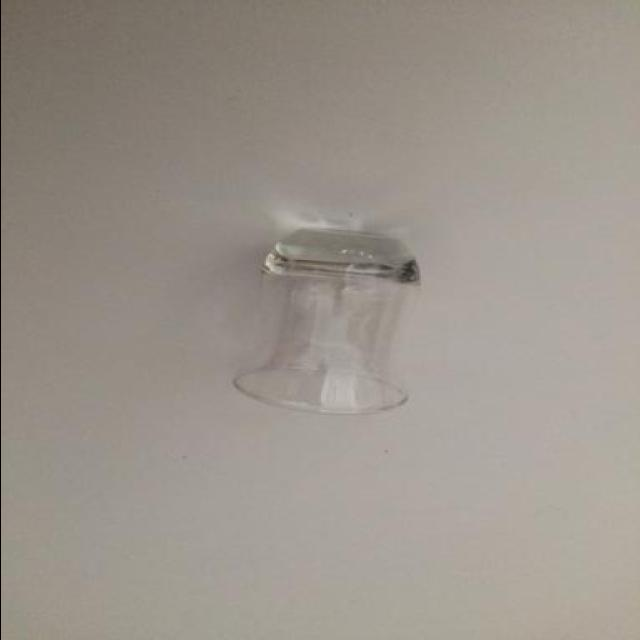glass: (229, 228, 421, 420)
